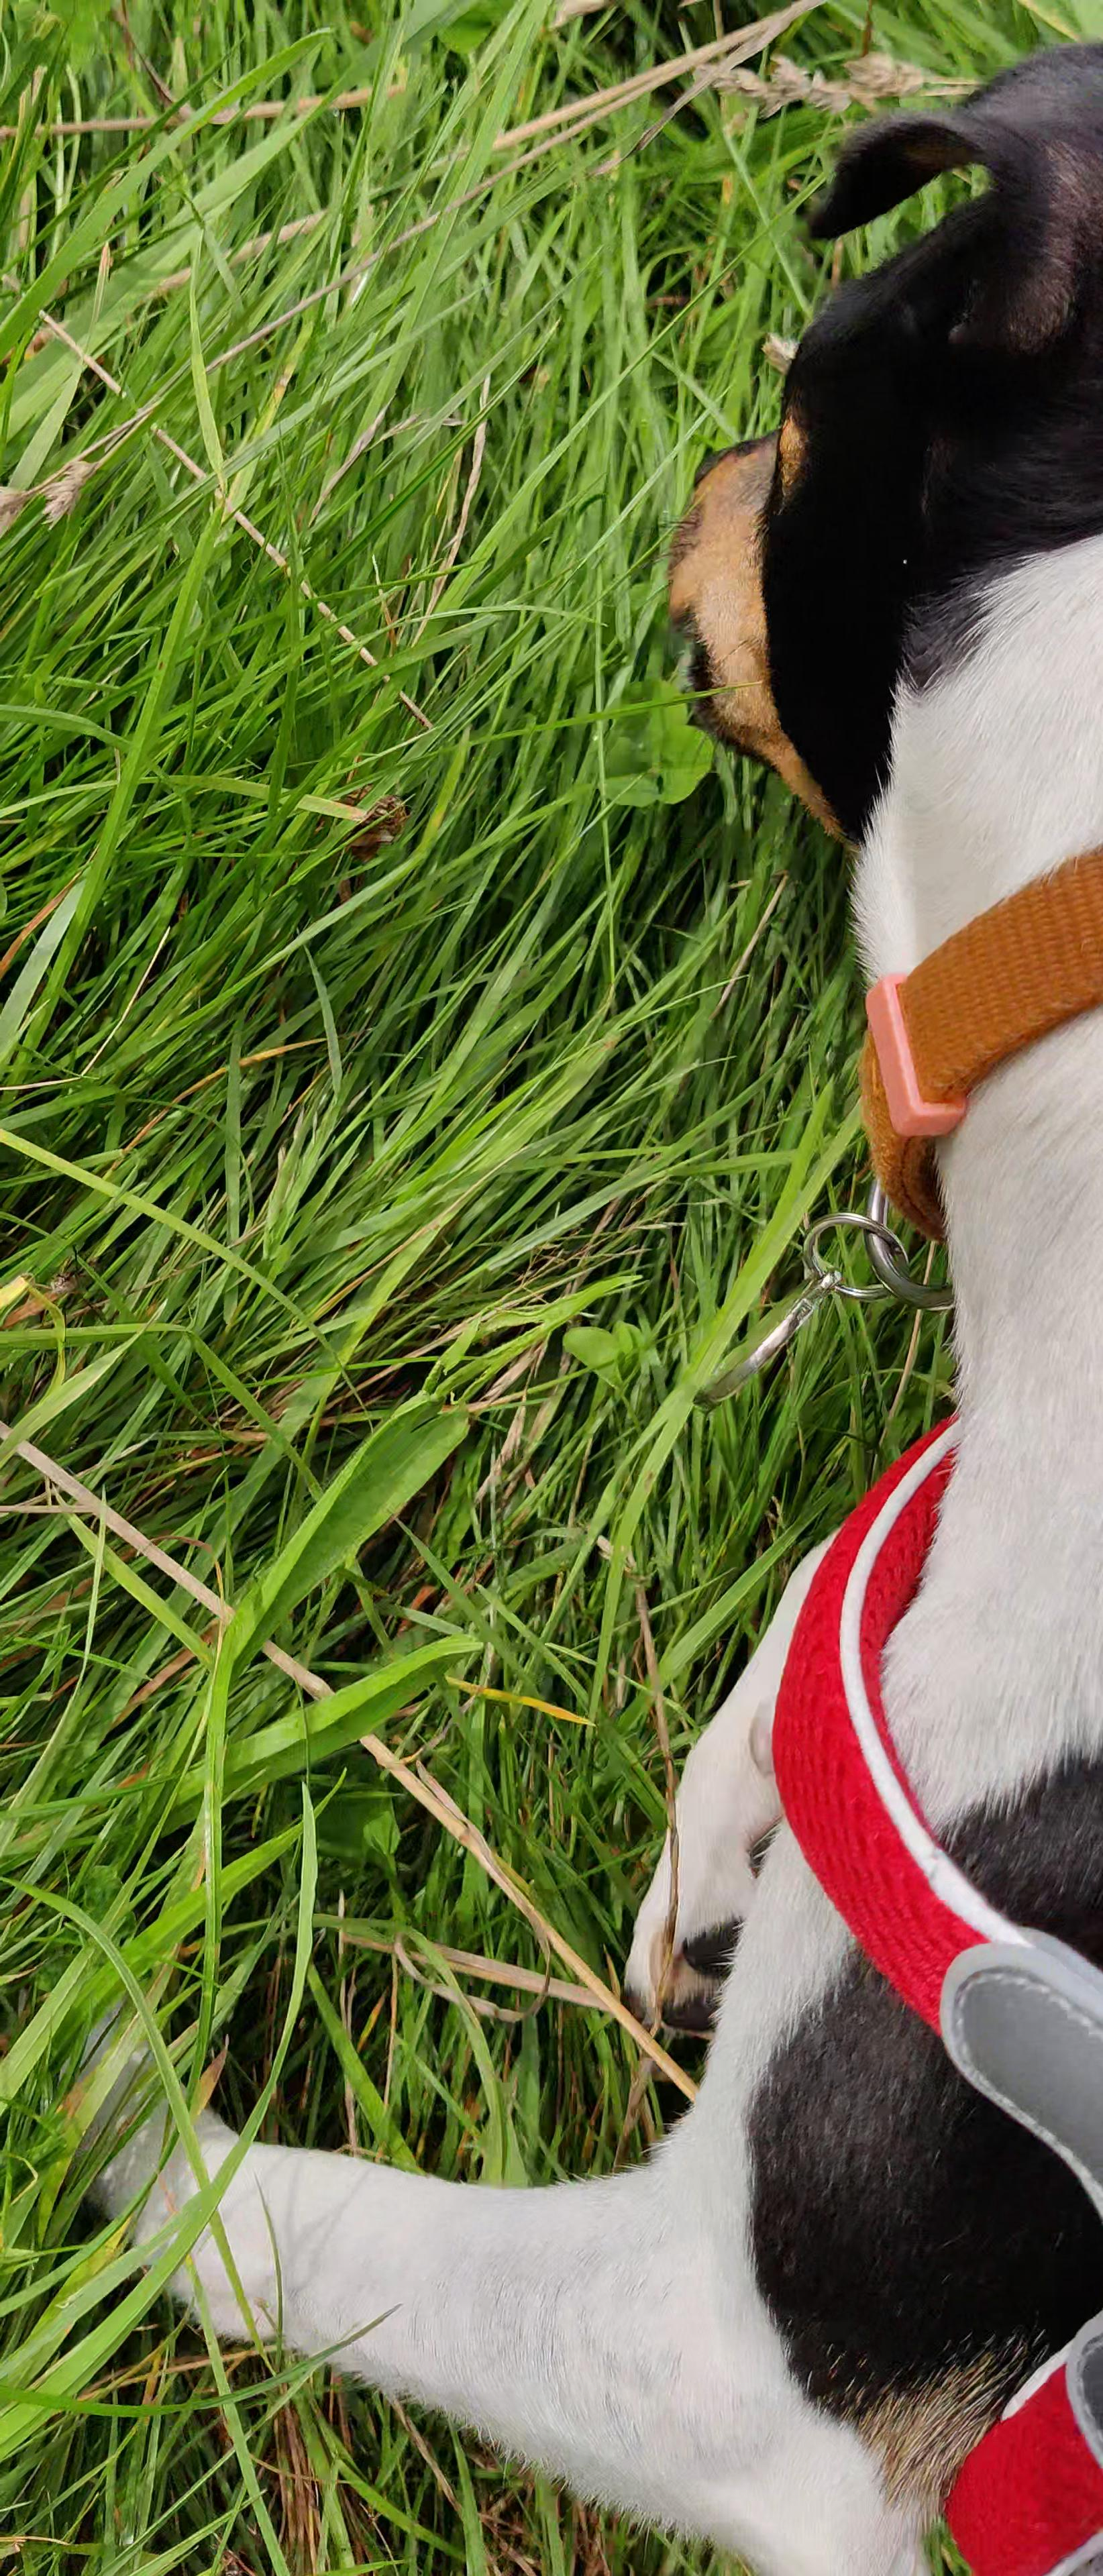Dog: (44, 28, 1103, 2576)
